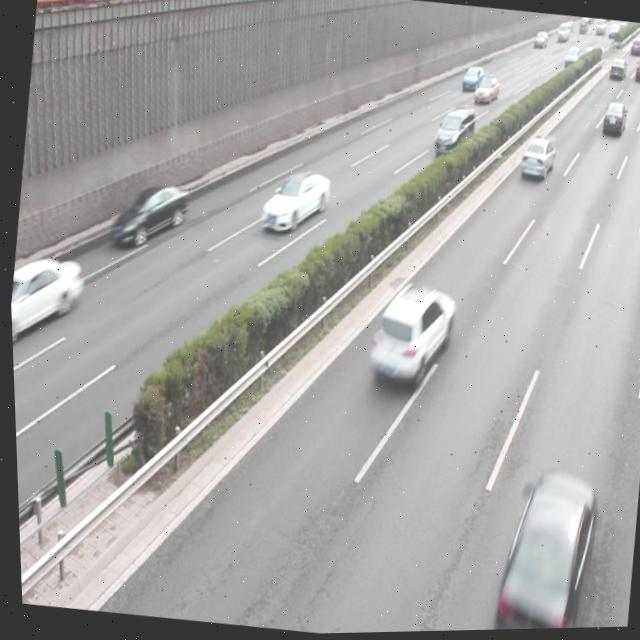car: (477, 461, 599, 632), (361, 277, 456, 390), (7, 251, 85, 345), (106, 179, 190, 253), (256, 167, 332, 238), (515, 136, 554, 184), (597, 102, 625, 140)
truck: (430, 107, 475, 160)
